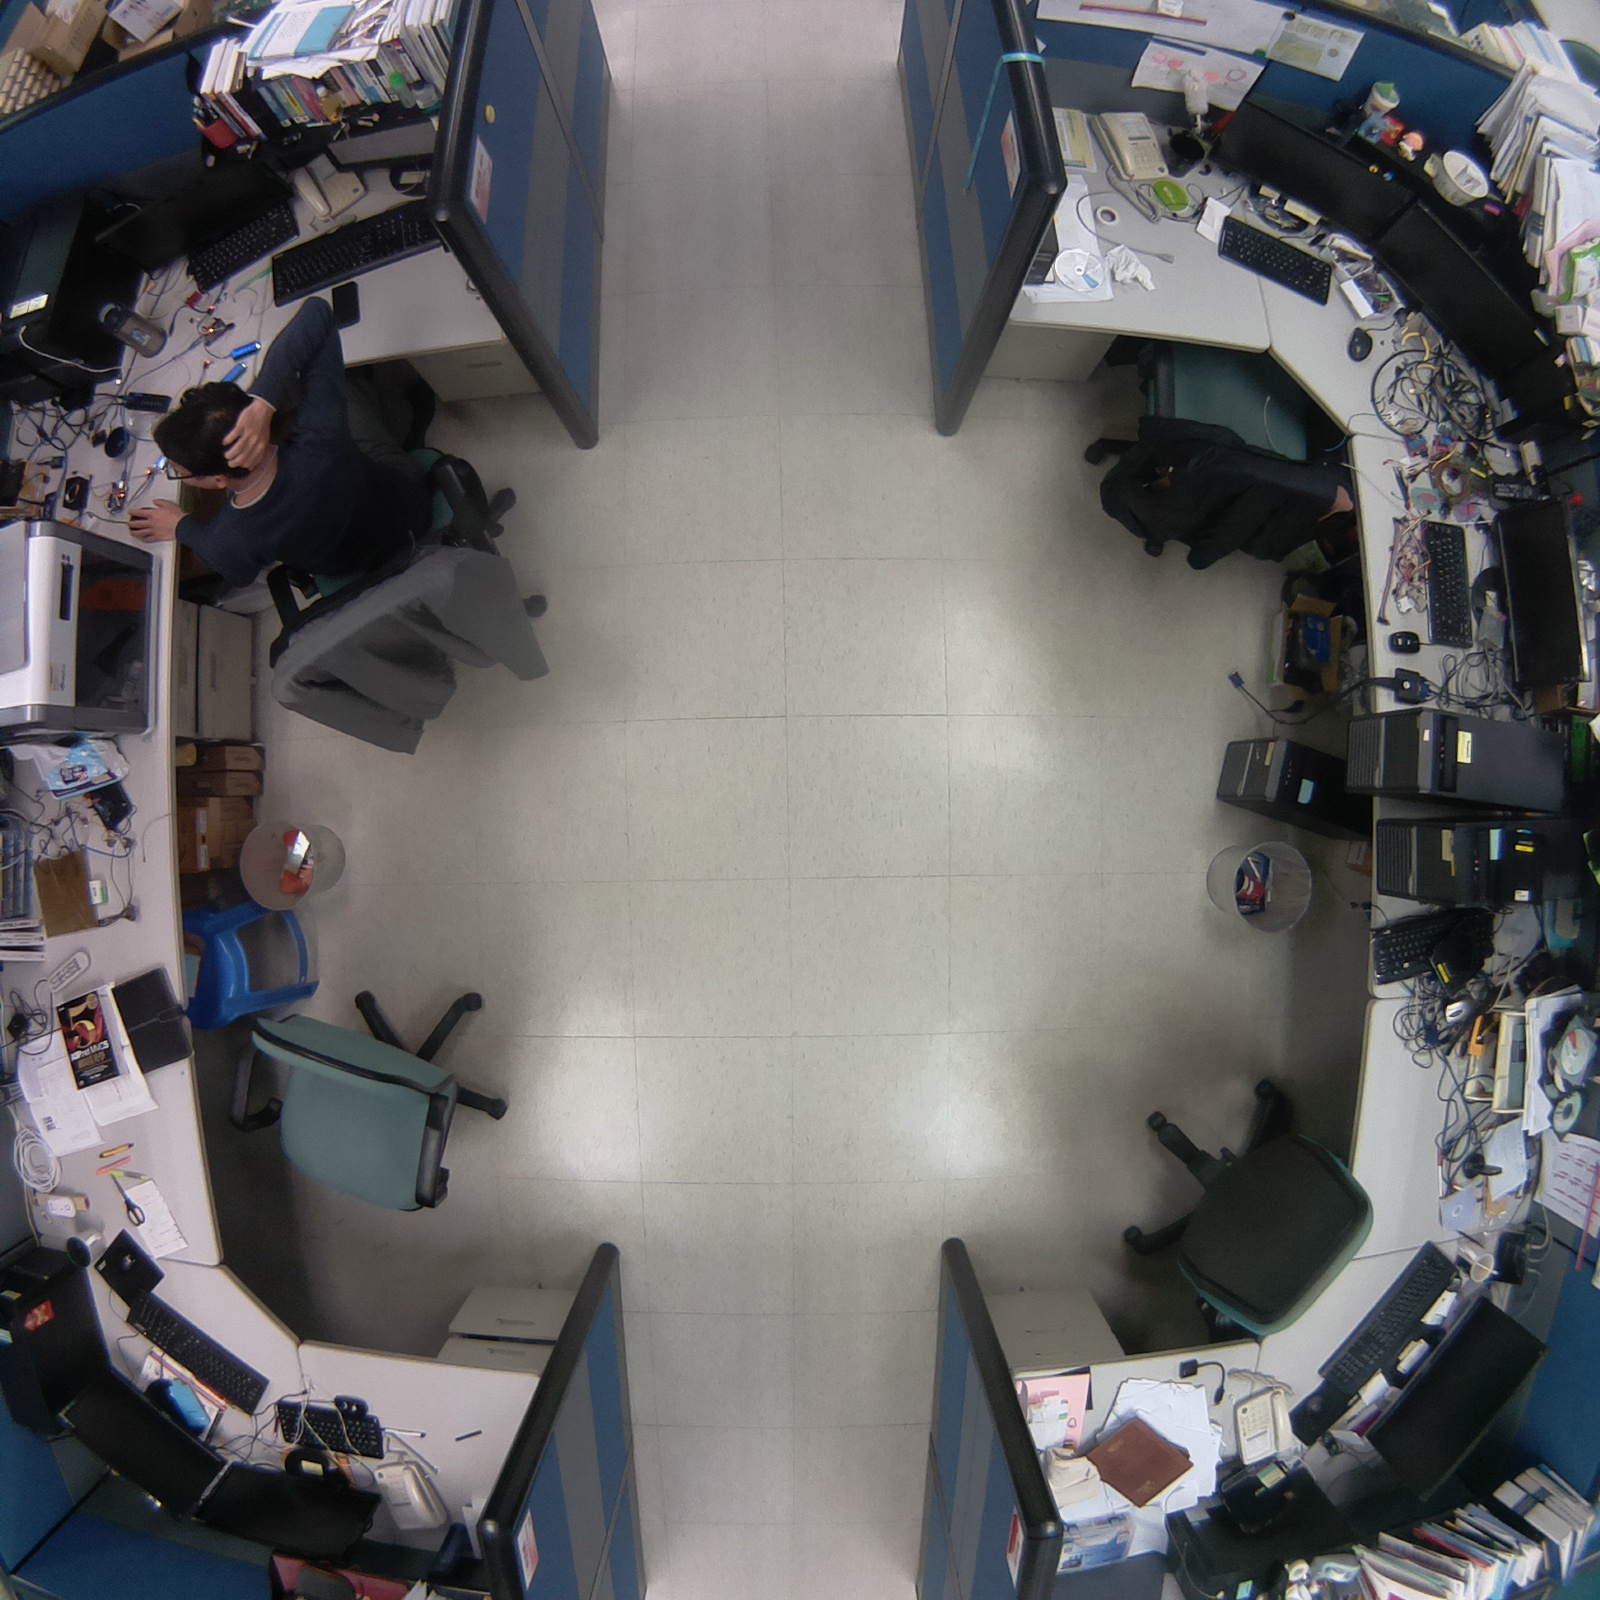chair: (214, 950, 550, 1227), (1109, 1058, 1391, 1355), (1086, 317, 1368, 601)
head: (144, 374, 259, 493)
sitting: (115, 307, 560, 773)
